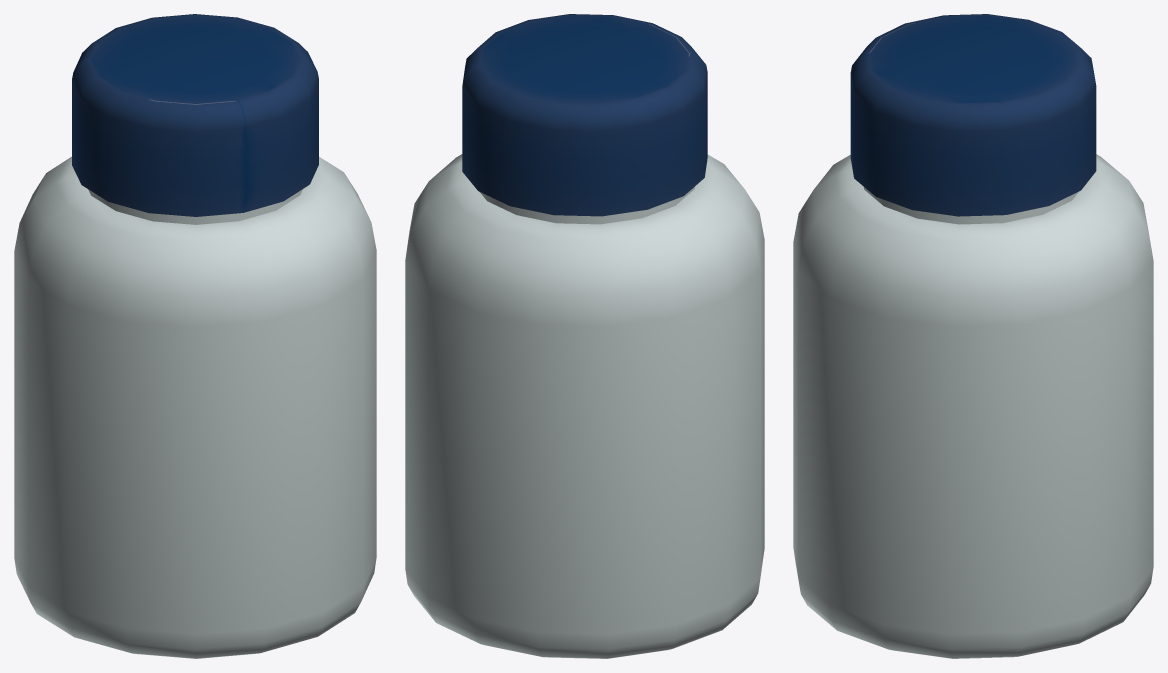
File: PillBottleC.fbx
The picture shows the model from 3 angles, left to right: view 1: azimuth 30°, elevation 25°; view 2: azimuth 150°, elevation 25°; view 3: azimuth 270°, elevation 25°; orthographic projection.
Parts seen in each view (by area): view 1: PillBottleC; view 2: PillBottleC; view 3: PillBottleC.
Part boxes in pixels (bbox=[...]): PillBottleC: bbox=[14, 14, 376, 658]; PillBottleC: bbox=[405, 14, 764, 658]; PillBottleC: bbox=[793, 14, 1153, 658].
Bounding box in the file's own units: 4.53 × 7.37 × 4.53.
